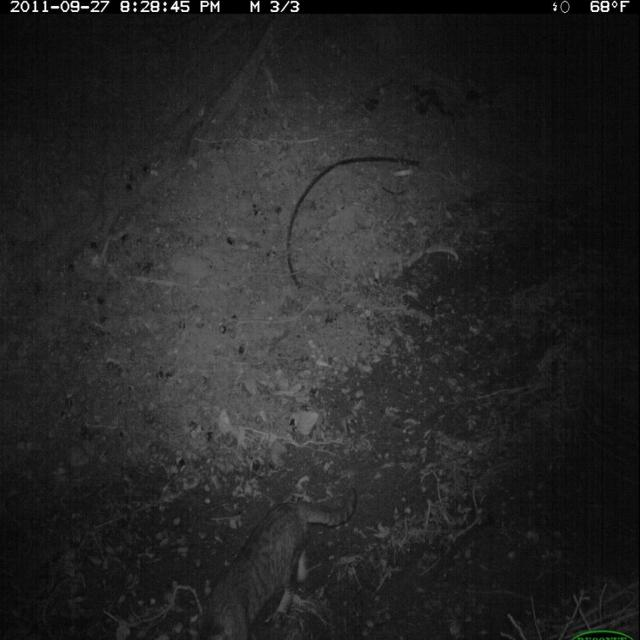cat: (186, 478, 365, 640)
